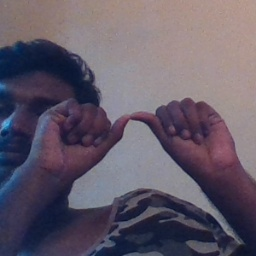A: (70, 92, 211, 180)
